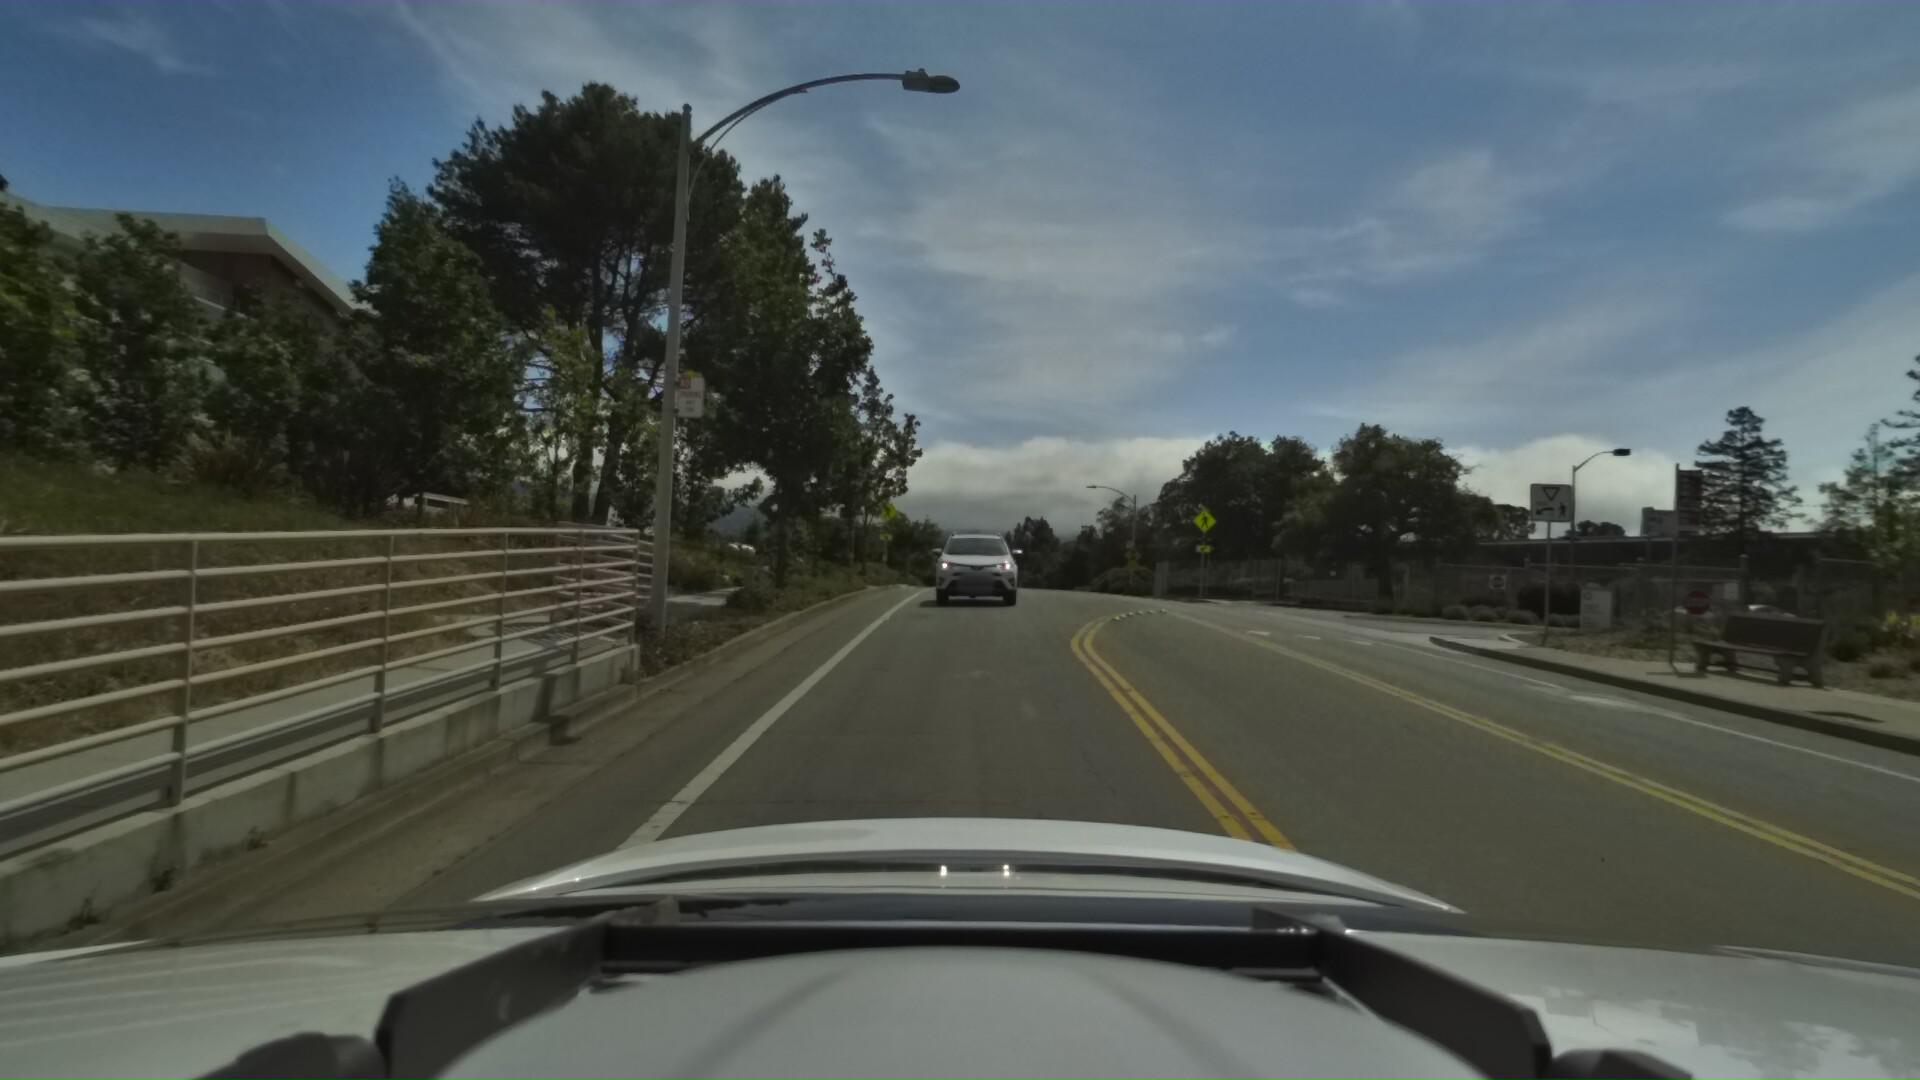car: (919, 508, 1019, 611)
